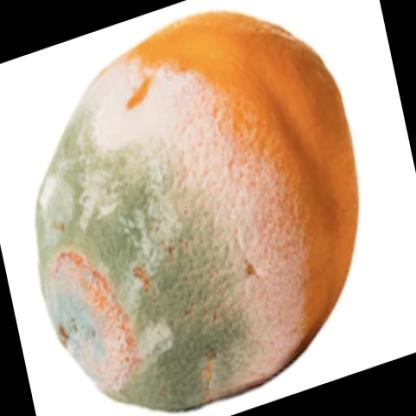rotten: (38, 13, 358, 411)
